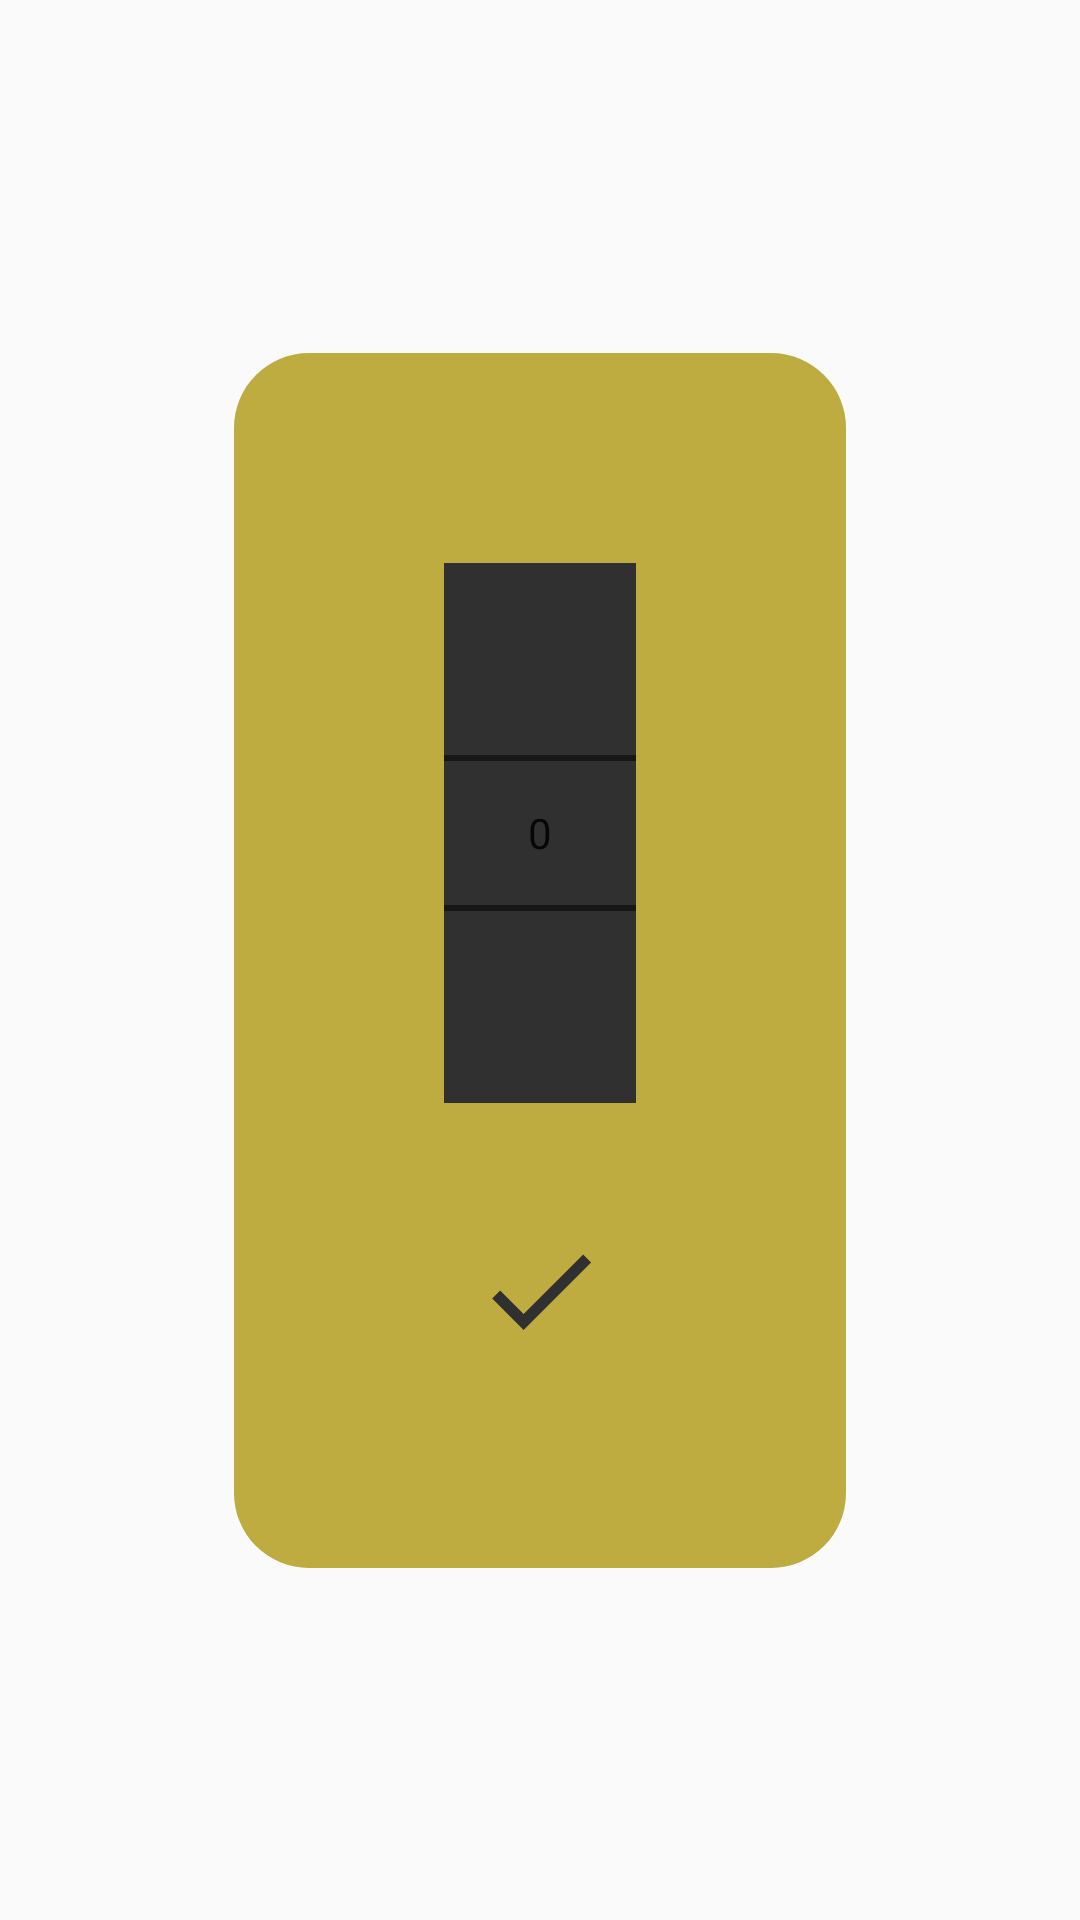

Locate icon controls on the screen. Image size 1080px×1920px, boxes as box=[x1, y1, x2, y2].
OK: box=[492, 1254, 591, 1330]
